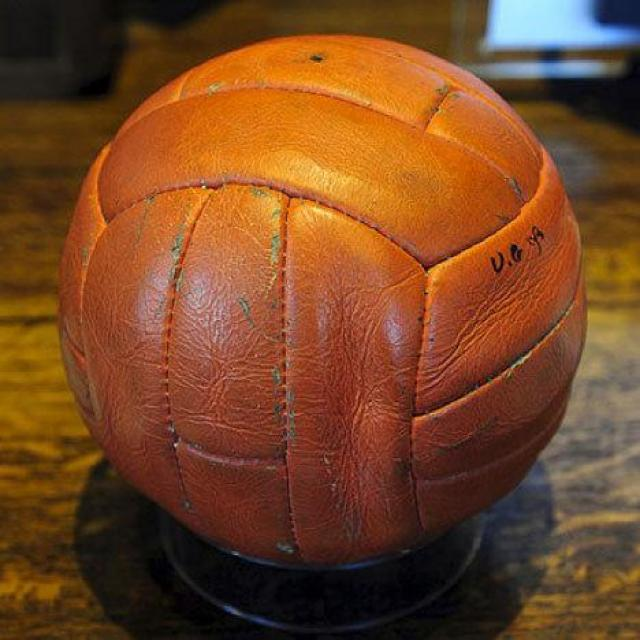Soccer Ball: (59, 33, 588, 566)
